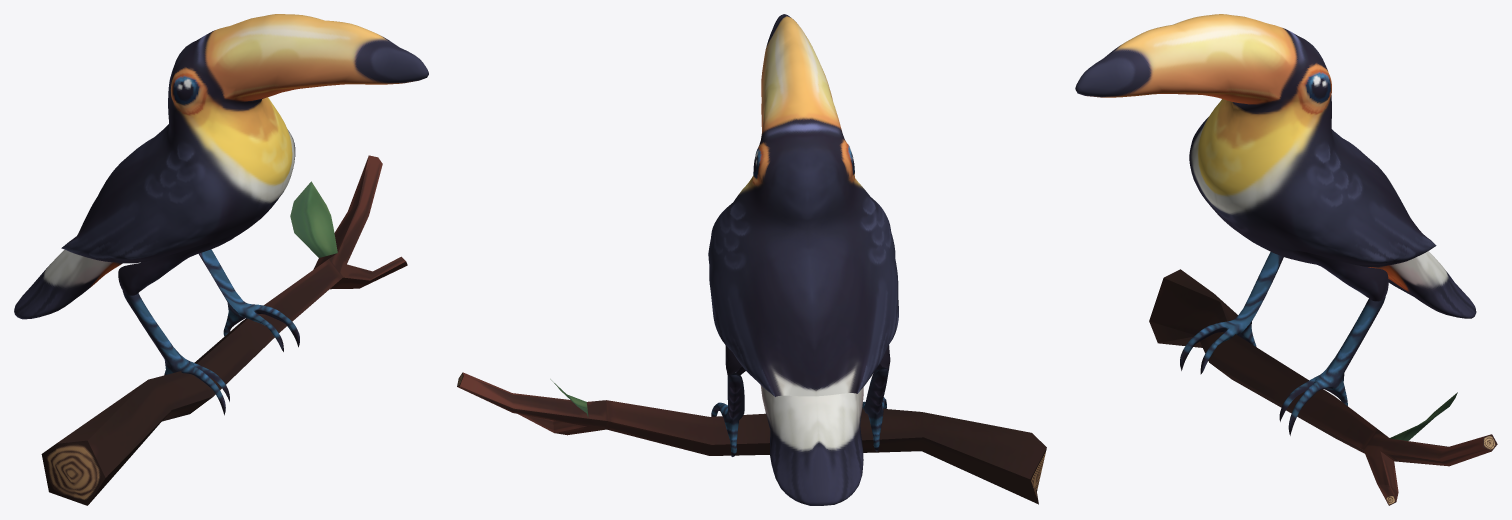
3 renders of one model, left to right at view 1: azimuth 30°, elevation 25°; view 2: azimuth 150°, elevation 25°; view 3: azimuth 270°, elevation 25°, orthographic. The views are drawn at different scales.
Visible parts, largest first — view 1: toucan_mat_toucan_0.001, branch_mat_branch_0.001; view 2: toucan_mat_toucan_0.001, branch_mat_branch_0.001; view 3: toucan_mat_toucan_0.001, branch_mat_branch_0.001.
Boxes of the visible parts, x1=… form: toucan_mat_toucan_0.001: x1=14, y1=14, x2=428, y2=415; branch_mat_branch_0.001: x1=41, y1=155, x2=407, y2=505; toucan_mat_toucan_0.001: x1=708, y1=14, x2=898, y2=505; branch_mat_branch_0.001: x1=457, y1=372, x2=1046, y2=504; toucan_mat_toucan_0.001: x1=1075, y1=14, x2=1476, y2=435; branch_mat_branch_0.001: x1=1149, y1=269, x2=1497, y2=505.
Size of the model in its own units: 3.54 by 3.03 by 2.6.
Materials: 2 (2 with a texture image).
